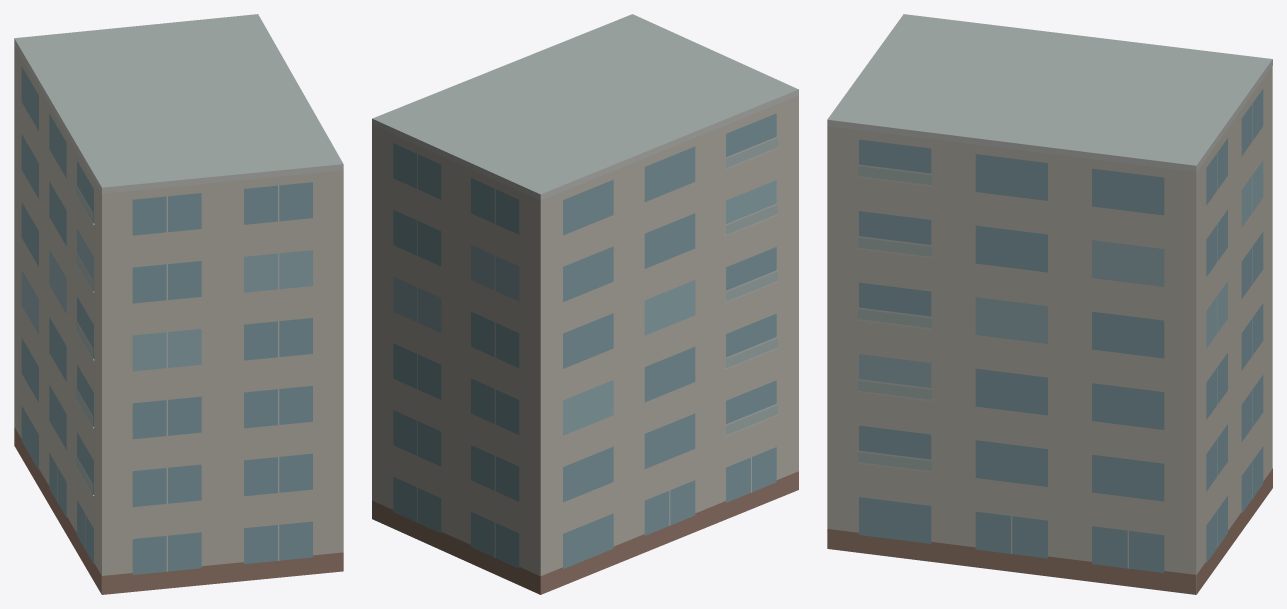
Rendered from survey-upis-32886857.glb.
3 views of the same model, side by side, from view 1: azimuth 30°, elevation 25°; view 2: azimuth 150°, elevation 25°; view 3: azimuth 270°, elevation 25° (orthographic). The views are drawn at different scales.
Parts seen in each view (by area): view 1: survey-upis-32886857.tmp; view 2: survey-upis-32886857.tmp; view 3: survey-upis-32886857.tmp.
Boxes of the visible parts, <box> form: survey-upis-32886857.tmp: <box>14,14,343,594</box>; survey-upis-32886857.tmp: <box>372,14,798,594</box>; survey-upis-32886857.tmp: <box>827,14,1272,594</box>.
Bounding box in the file's own units: 12.3 × 16.2 × 15.26.
